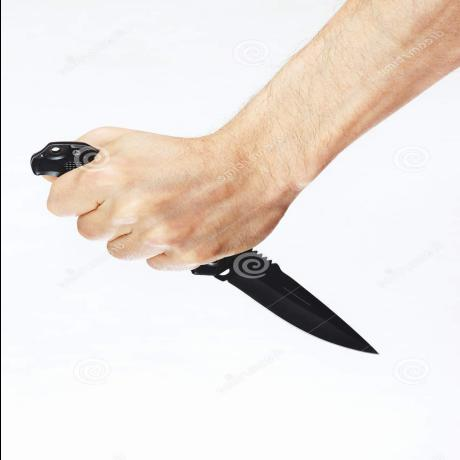1: (30, 0, 460, 271)
weapon: (18, 140, 385, 360)
